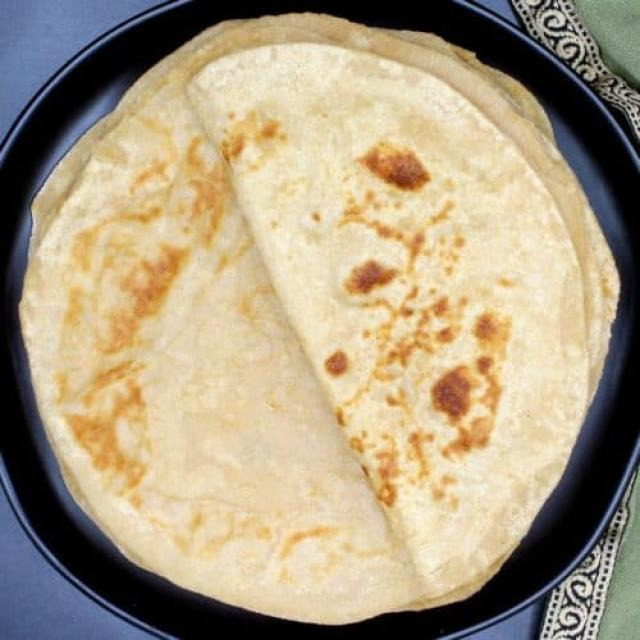chapathi: (191, 39, 634, 616), (2, 71, 422, 624)
